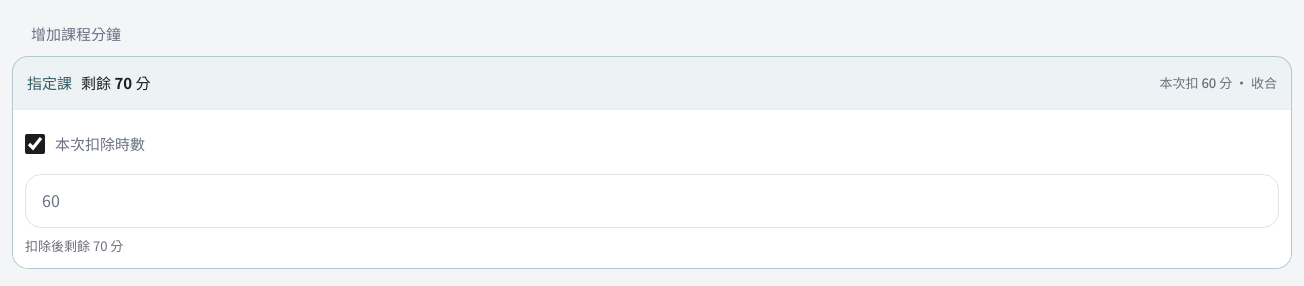
Test: CoachDesignatedDeductionControl balance preview › does not subtract an existing deduction twice while editing
Expected: the text "扣除後剩餘 70 分" is shown, [25,236,123,255]
Replace the text in the field named "本次扣除分鐘" with "50" at point(652, 201), box [25,174,1279,228]
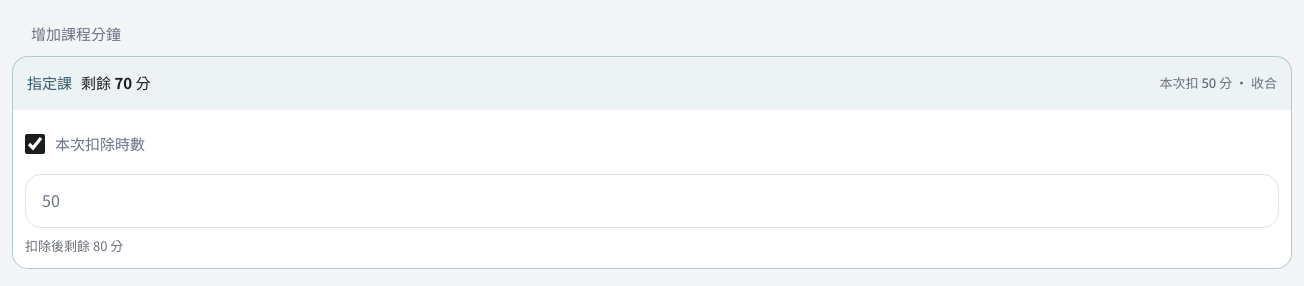
Now the text "扣除後剩餘 80 分" is shown, box [25,236,123,255]
Click the checkbox labelled "本次扣除時數".
click(35, 144)  # box [25,134,45,154]
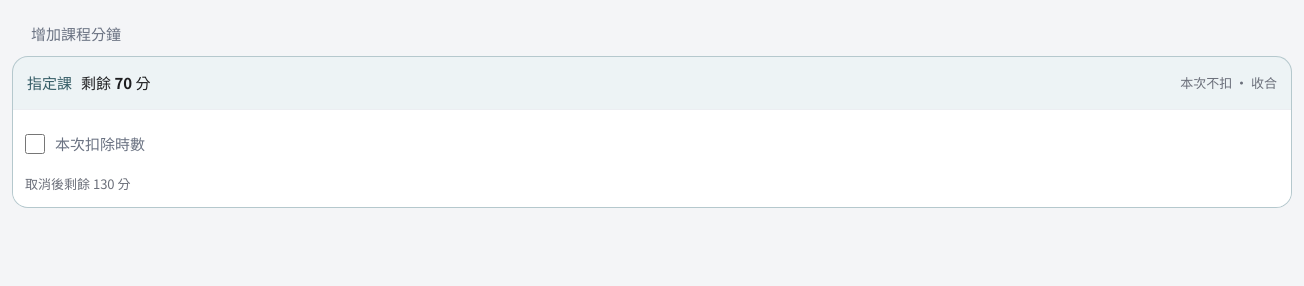
Now the text "取消後剩餘 130 分" is shown, box [25,174,130,193]
